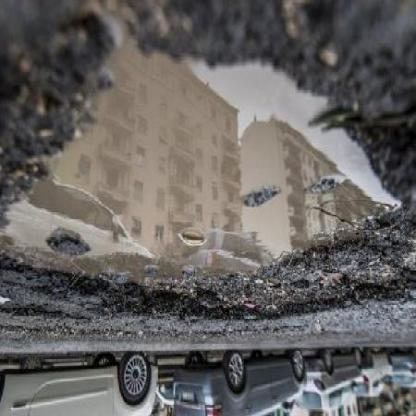pothole: (1, 30, 416, 333)
